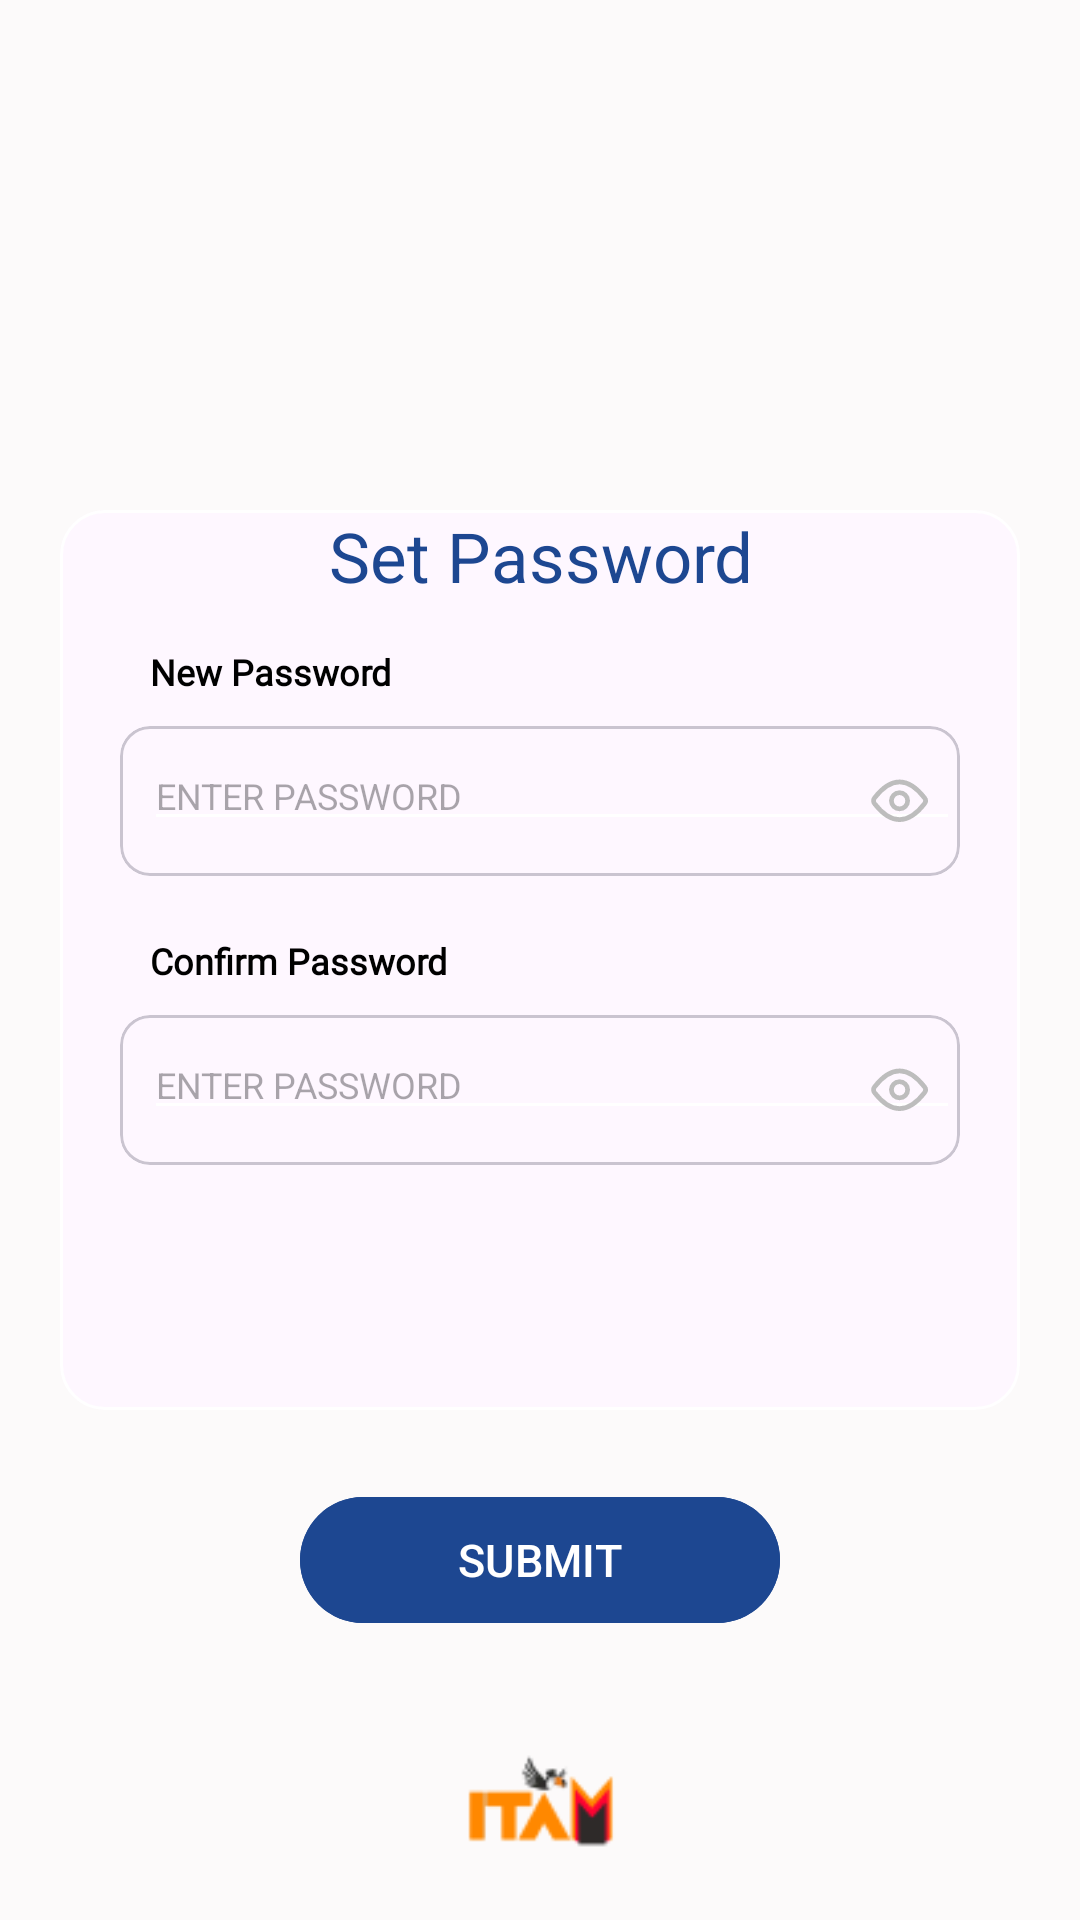

Screen size 1080×1920. Icon name, then its box in pixels as (x1, y1, x2, y2):
eye: (871, 779, 928, 822), (871, 1068, 928, 1111)
